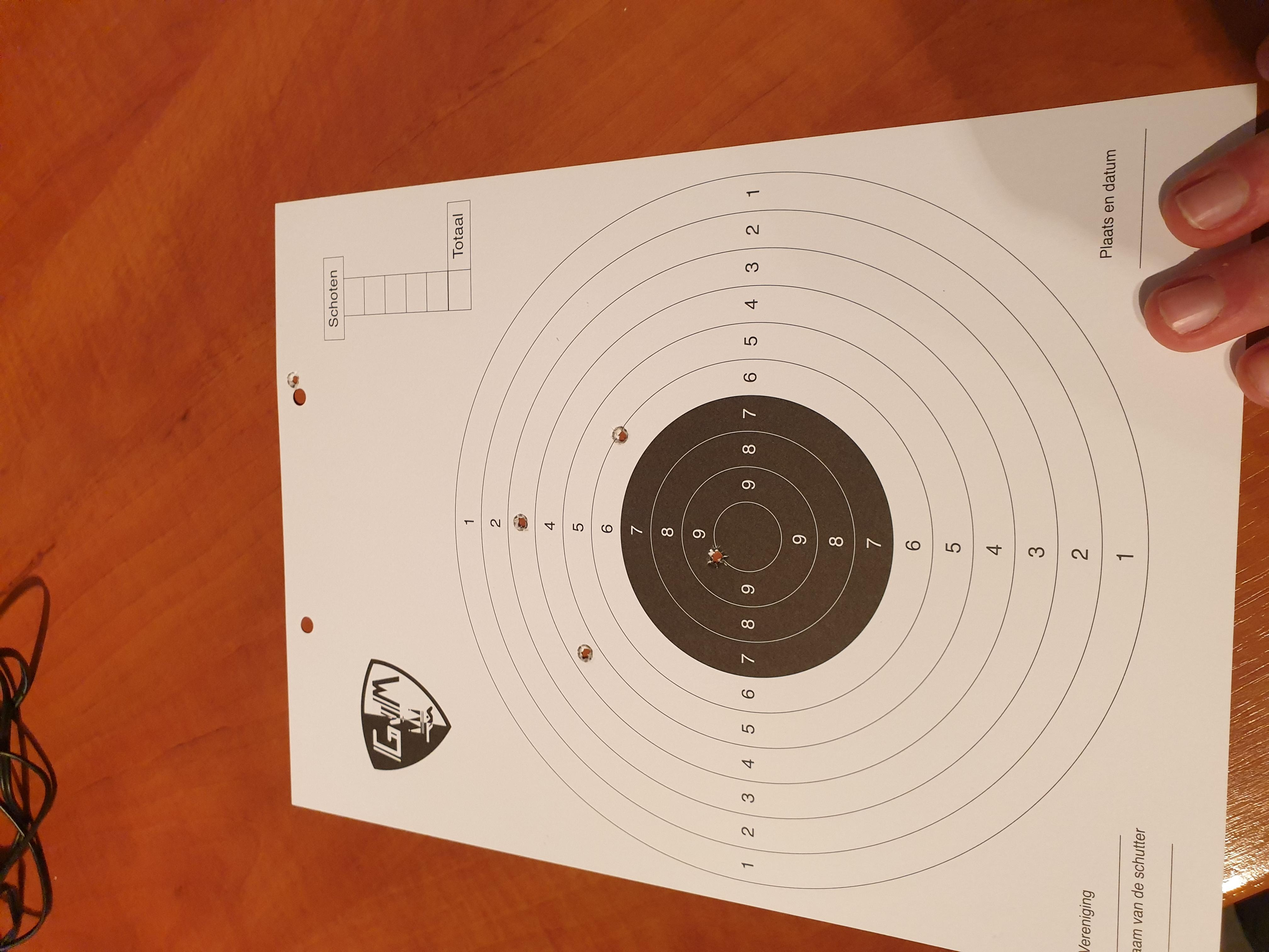hole: (508, 530, 542, 546), (675, 456, 703, 474), (384, 431, 412, 447), (747, 214, 777, 227), (559, 384, 586, 397)
